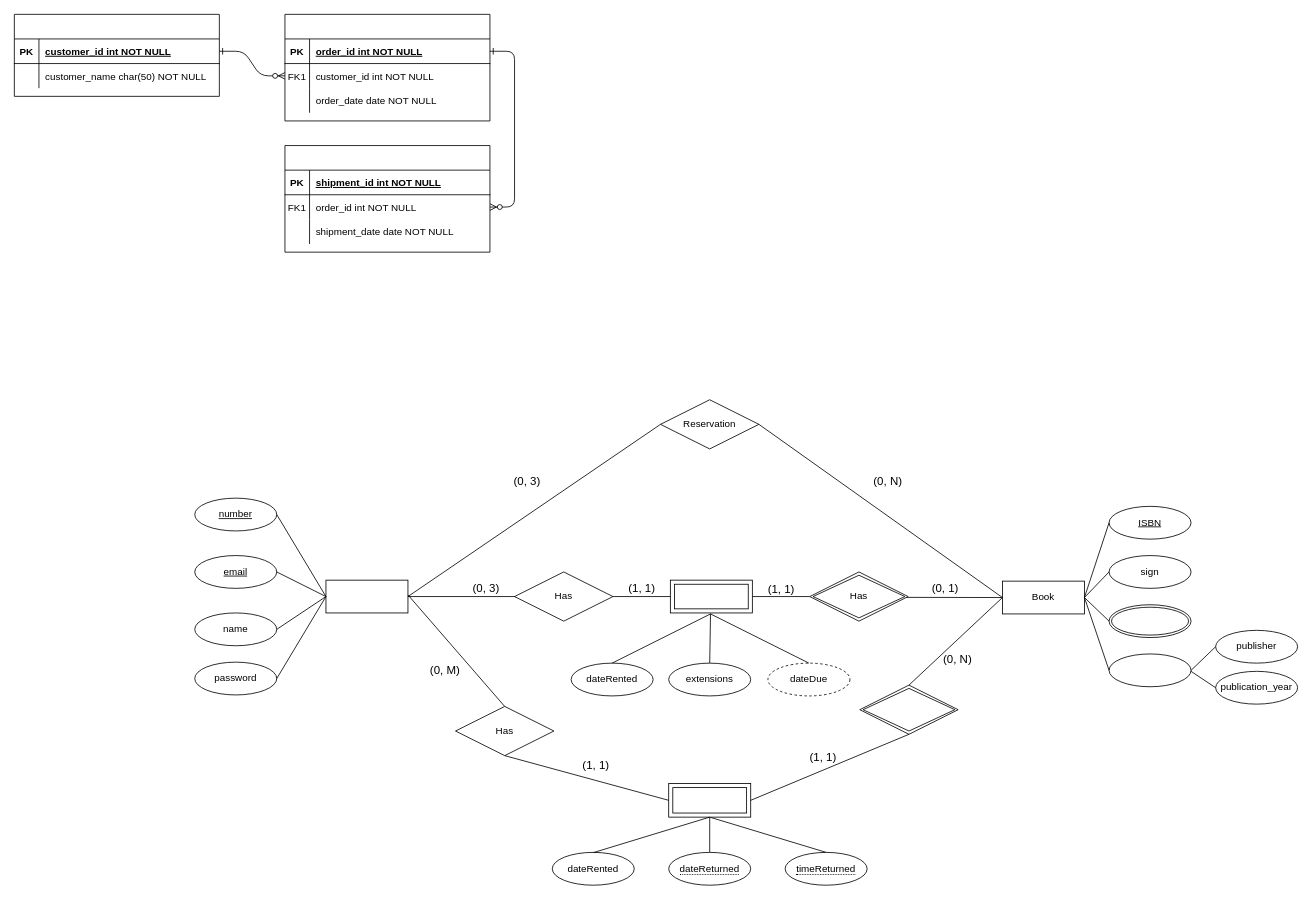
The diagram is 1312 pixels wide and 900 high, and some of its shapes have lost their labels. Each missing label, with the box of its shape:
author: (1108, 604, 1191, 638)
Customers: (14, 14, 219, 96)
Member: (325, 579, 408, 613)
Orders: (284, 14, 490, 121)
PreviousRental: (668, 783, 751, 817)
publishing: (1108, 653, 1191, 687)
Rental: (670, 579, 752, 613)
Returned: (859, 684, 958, 734)
Shipments: (284, 145, 490, 252)
